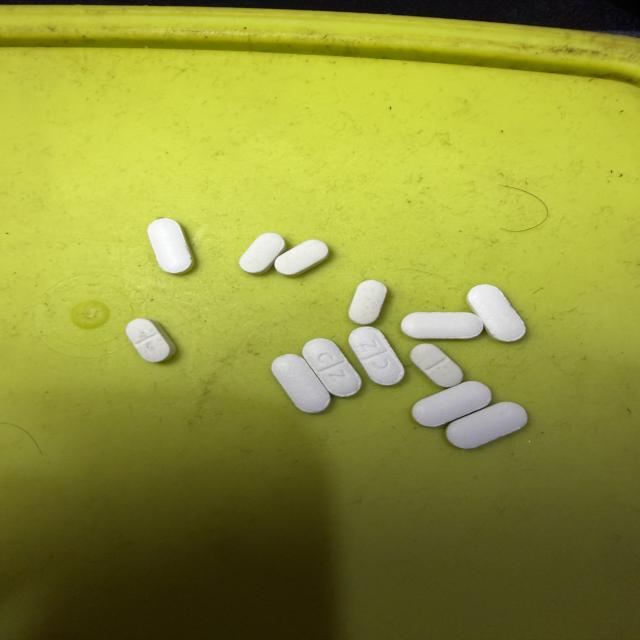pill: (446, 402, 527, 448), (412, 381, 491, 427), (272, 354, 330, 413), (303, 338, 361, 397), (467, 284, 525, 341), (349, 327, 404, 385), (148, 218, 193, 273), (411, 344, 463, 387), (126, 319, 175, 362), (402, 313, 483, 339), (275, 240, 328, 276), (239, 233, 285, 274), (349, 280, 386, 324)
